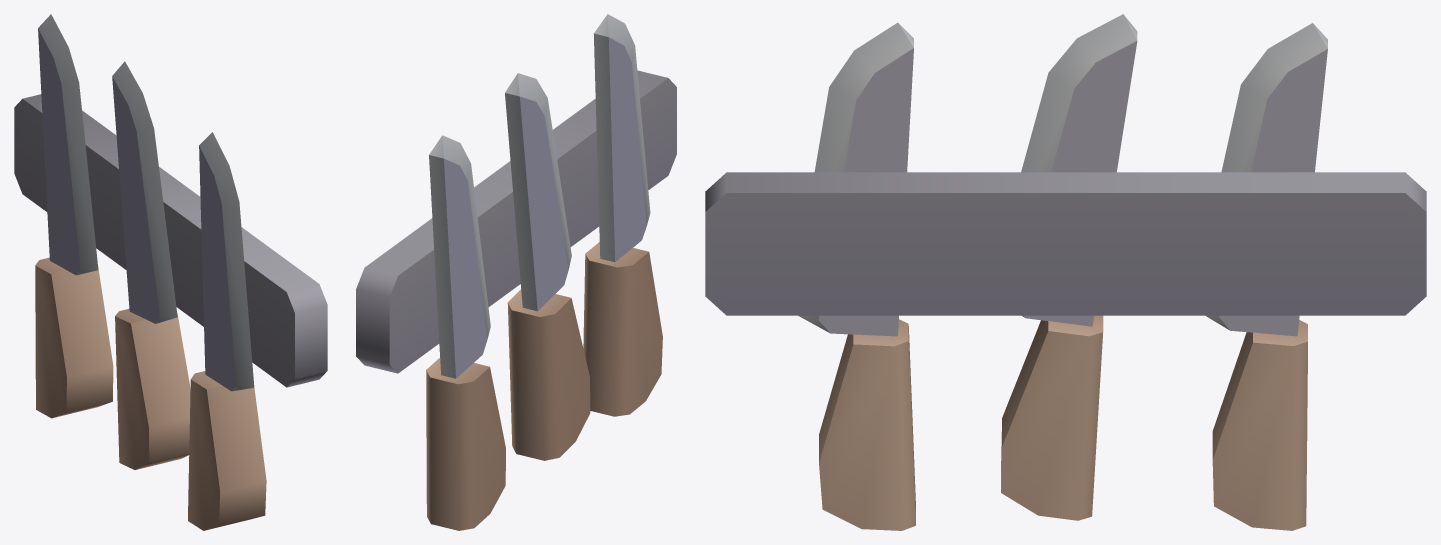
The model's file is holder-knives (%wall).glb.
3 views of the same model, side by side, from view 1: azimuth 30°, elevation 25°; view 2: azimuth 150°, elevation 25°; view 3: azimuth 270°, elevation 25° (orthographic). The views are drawn at different scales.
Parts seen in each view (by area): view 1: holder-knives (%wall); view 2: holder-knives (%wall); view 3: holder-knives (%wall).
Part boxes in pixels (bbox=[...]): holder-knives (%wall): bbox=[14, 14, 327, 530]; holder-knives (%wall): bbox=[356, 14, 676, 530]; holder-knives (%wall): bbox=[705, 14, 1426, 530].
Bounding box in the file's own units: 0.0668 × 0.395 × 0.5125.
